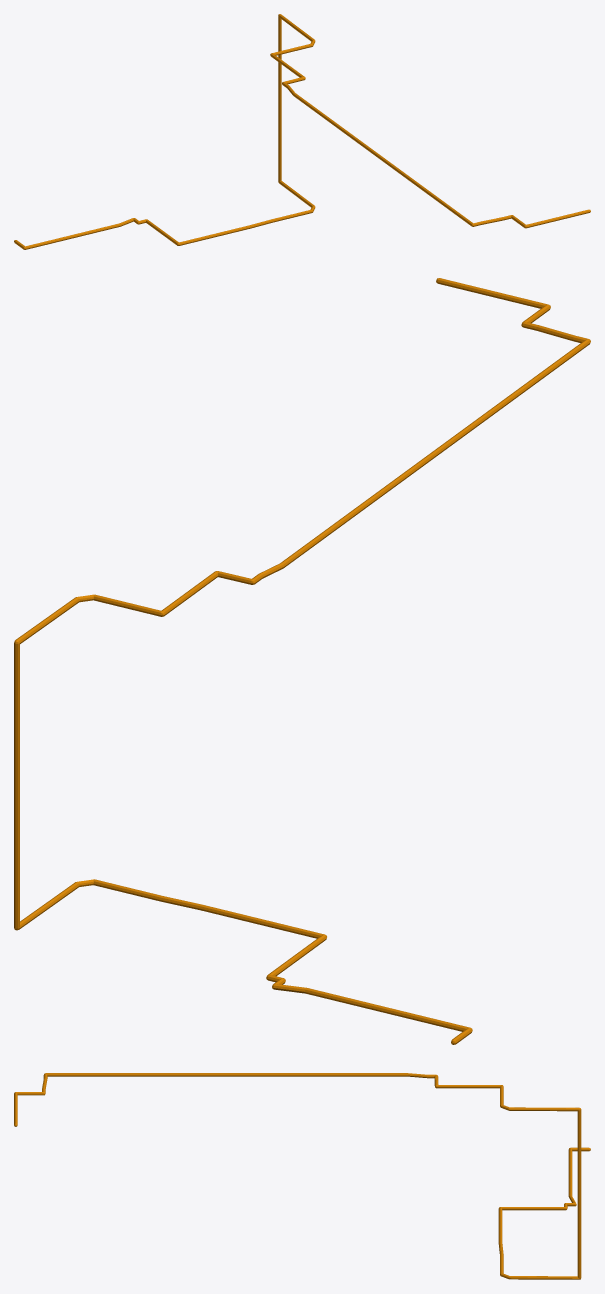
3 views of the same model, one above another, from view 1: azimuth 30°, elevation 25°; view 2: azimuth 150°, elevation 25°; view 3: azimuth 270°, elevation 25° (orthographic). The views are drawn at different scales.
Size of the model in its own units: 1854 by 1020 by 3103.
